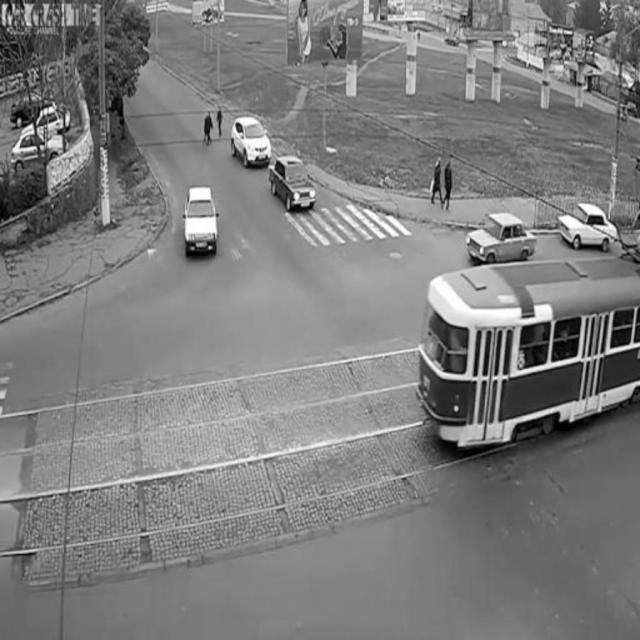person: (429, 144, 444, 212), (443, 146, 459, 204), (200, 107, 215, 152), (216, 101, 226, 146)
vehicle: (419, 254, 631, 438), (467, 213, 540, 269), (560, 203, 618, 251), (268, 157, 319, 211), (183, 185, 219, 261), (10, 123, 67, 170), (232, 120, 272, 170)
